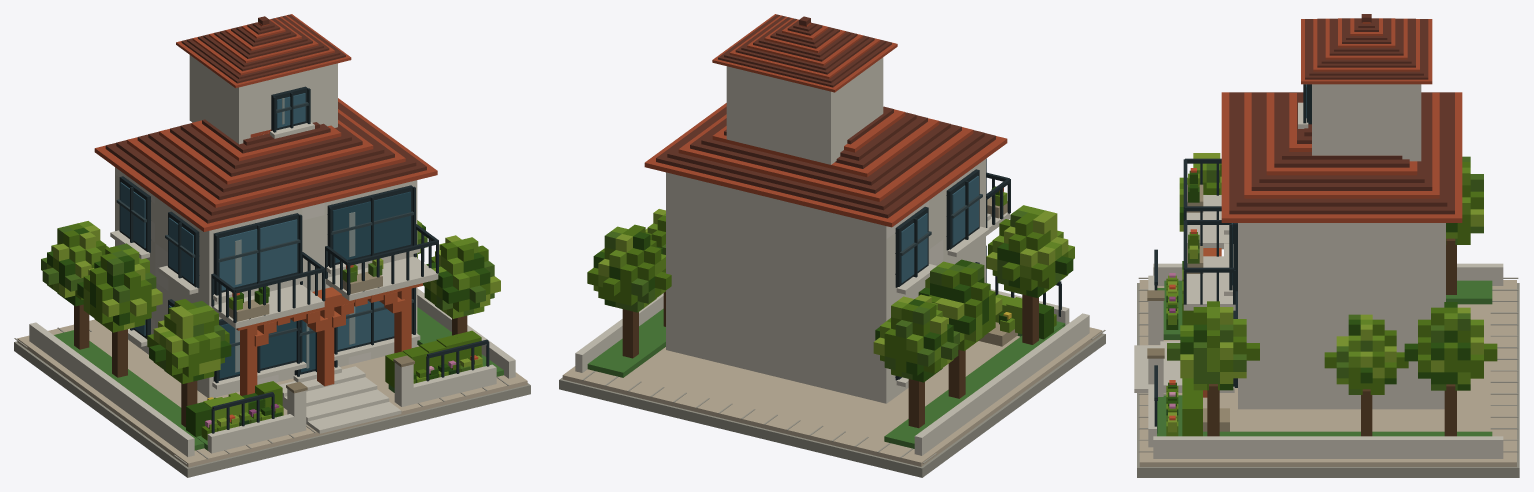
The model's file is SM_Mapa_018.fbx.
3 views of the same model, side by side, from view 1: azimuth 30°, elevation 25°; view 2: azimuth 150°, elevation 25°; view 3: azimuth 270°, elevation 25° (orthographic). The views are drawn at different scales.
Visible parts, largest first — view 1: SM_Mapa_018; view 2: SM_Mapa_018; view 3: SM_Mapa_018.
Part boxes in pixels (left/top/right/bottom): SM_Mapa_018: left=14, top=14, right=530, bottom=477; SM_Mapa_018: left=559, top=14, right=1105, bottom=477; SM_Mapa_018: left=1134, top=14, right=1519, bottom=477.
Bounding box in the file's own units: 8 × 7.04 × 7.53.
